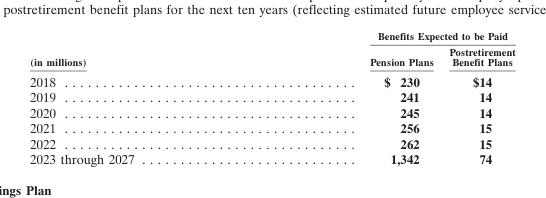table: (29, 29, 514, 166)
table column: (29, 29, 251, 166), (251, 29, 440, 166), (440, 29, 514, 166)
table column header: (29, 29, 514, 70)
table row: (29, 43, 514, 70), (29, 70, 514, 88), (29, 88, 514, 104), (29, 119, 514, 135), (29, 150, 514, 166), (29, 104, 514, 119), (29, 135, 514, 150), (29, 29, 514, 43)
table spanning cell: (29, 29, 251, 70), (251, 29, 514, 43)
